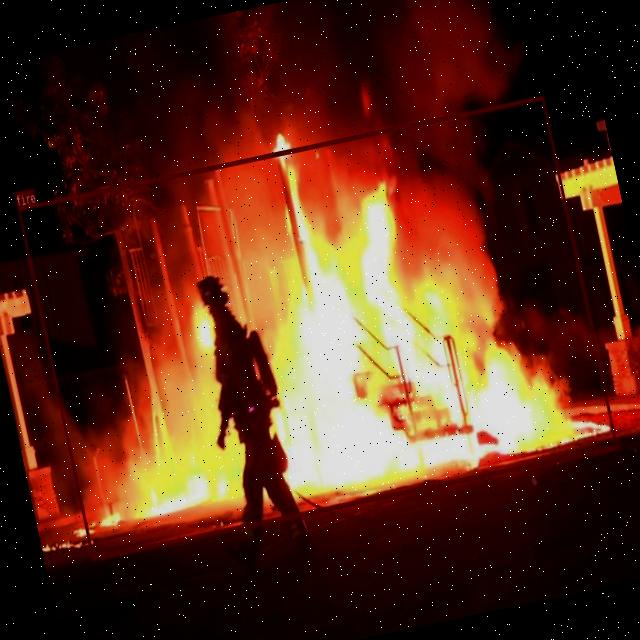fire: (16, 95, 618, 560)
